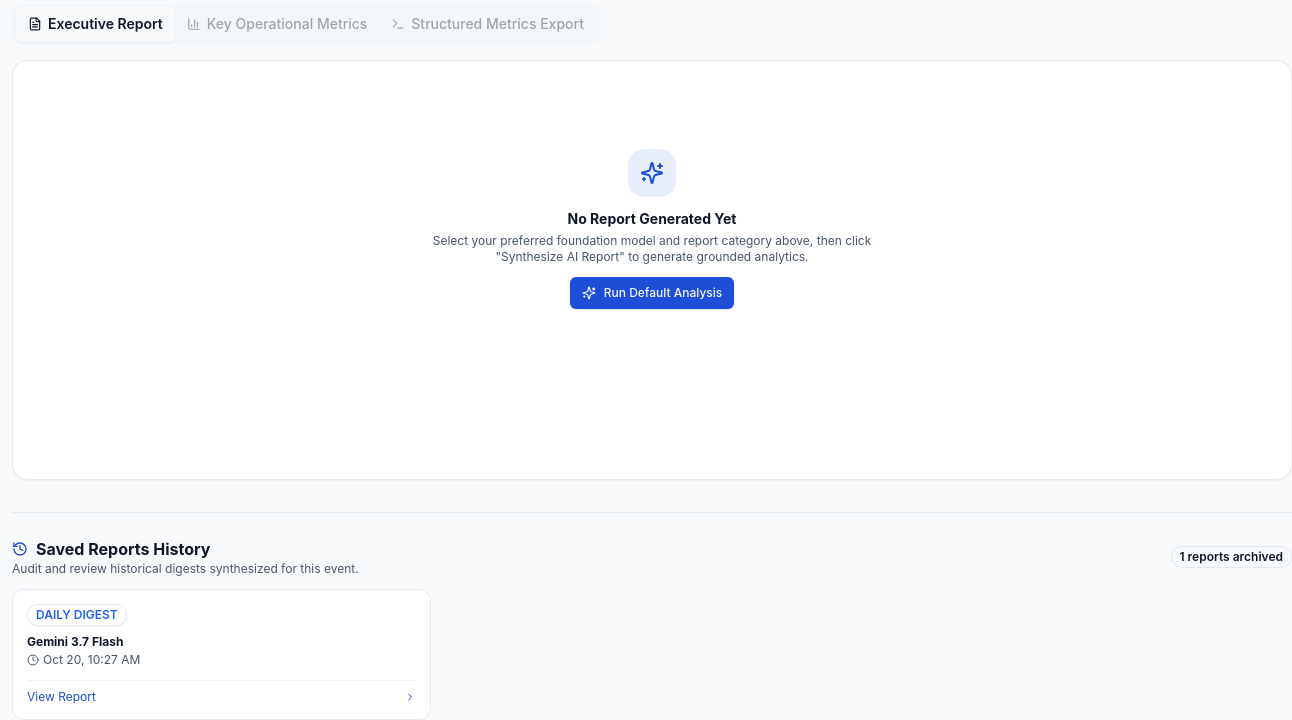
Test: AIReportsHub Component (Phase 10 Organizer AI Intelligence Hub) › renders saved reports history and allows selecting archived reports
The image size is (1292, 720).
(page scrolled)
Expected: the text "Saved Reports History" is shown, [36,537,210,561]
Expected: the text "1 reports archived" is shown, [1170,546,1291,568]
Click the text "DAILY DIGEST" at (77, 615), box [27,604,127,626]
(page scrolled)
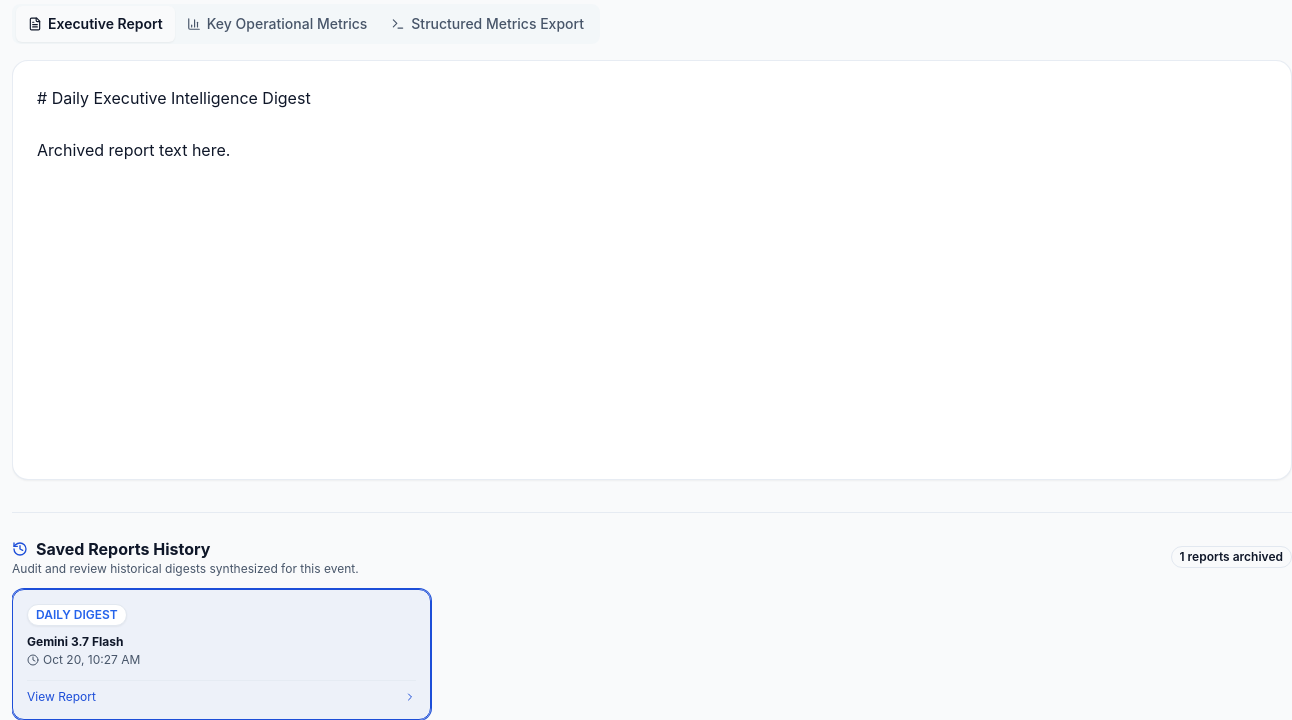
Expected: the text "Archived report text here" is shown, [37,88,311,160]
